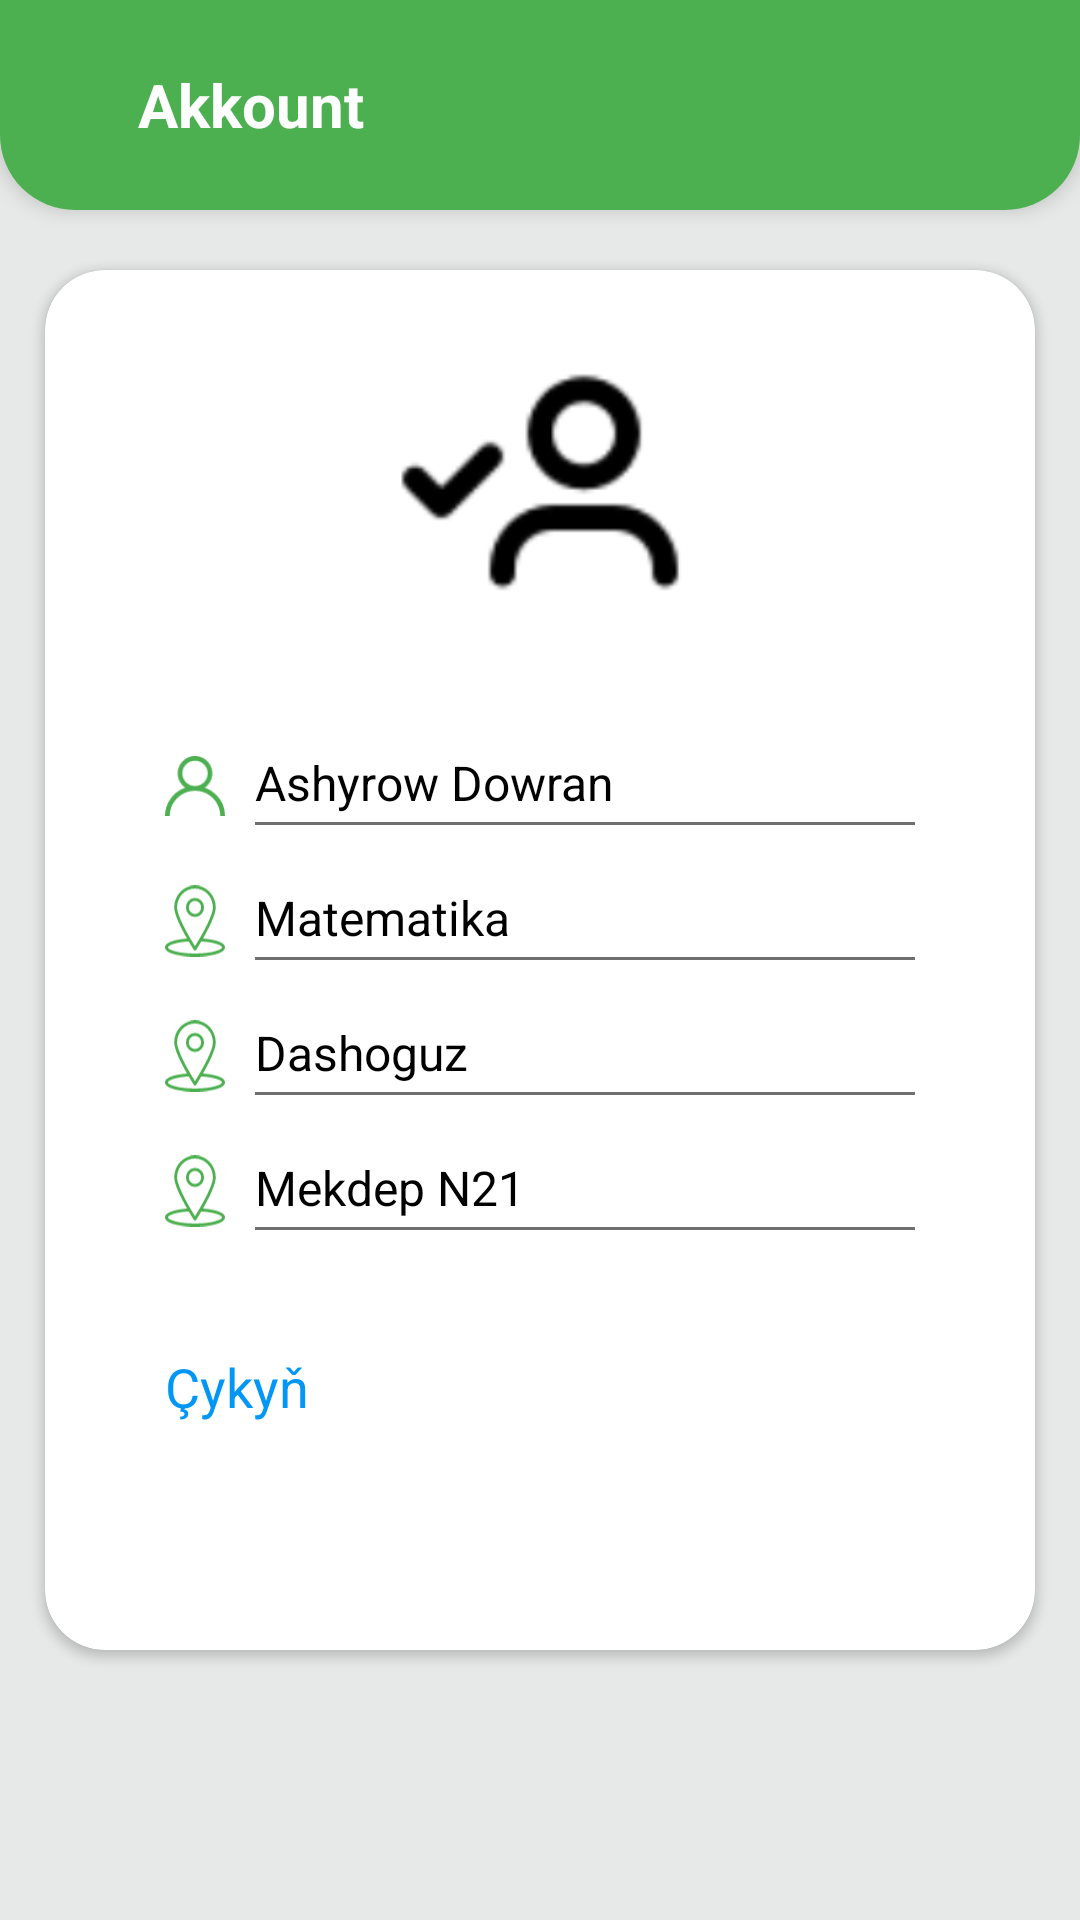

Where icons sit on this 1080x1920 app screen, as (x1, y1, x2, y2):
akkount: (401, 374, 679, 590)
user: (165, 756, 225, 816)
